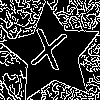X: (26, 28, 68, 80)
